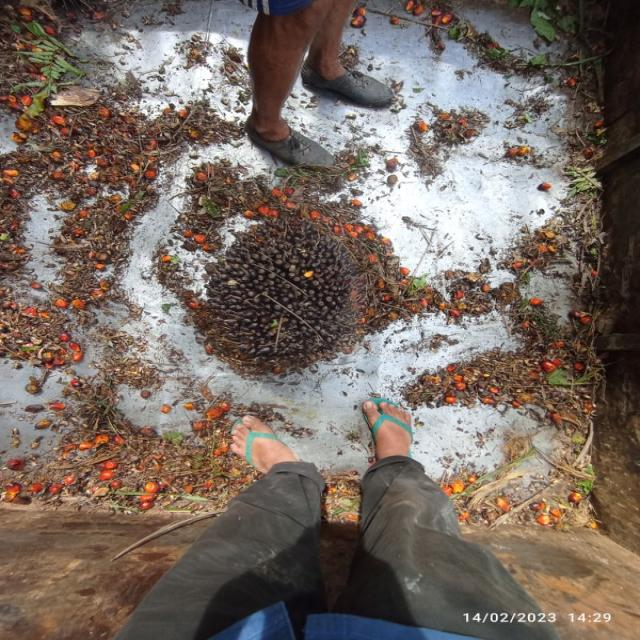fraksi 00: (192, 214, 366, 383)
